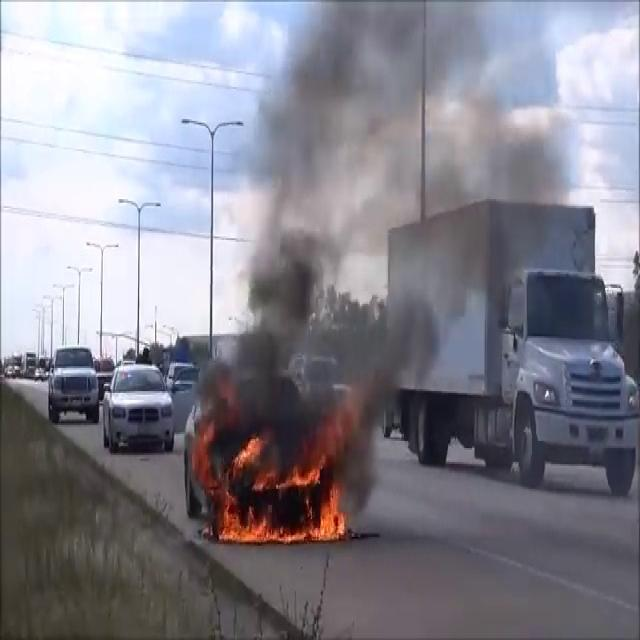Fire: (197, 431, 348, 545)
Smoke: (205, 1, 606, 449)
